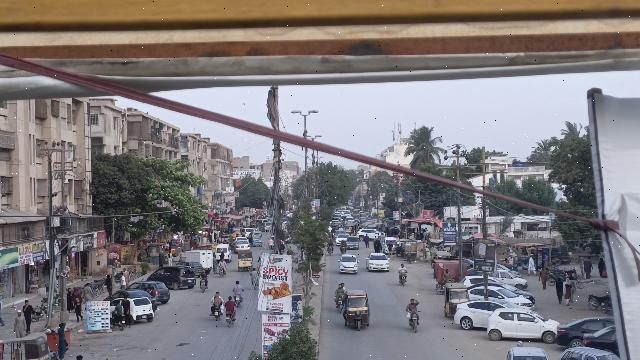Bike: (407, 310, 421, 335), (111, 312, 126, 331), (334, 295, 348, 314), (211, 305, 221, 324), (225, 311, 236, 328), (397, 272, 409, 287), (233, 293, 244, 309)
Car: (484, 307, 560, 344), (452, 297, 508, 330), (555, 316, 608, 347), (148, 264, 197, 291), (128, 277, 170, 304), (182, 248, 216, 276), (364, 251, 391, 273), (335, 253, 360, 276)
Person: (56, 320, 70, 360), (22, 299, 35, 333), (13, 309, 28, 338), (72, 295, 85, 324), (552, 276, 565, 305), (562, 276, 572, 307), (538, 265, 549, 292), (211, 289, 223, 309), (116, 271, 128, 290), (103, 271, 112, 296), (231, 279, 244, 296), (406, 297, 420, 312), (224, 295, 237, 311), (335, 282, 345, 298), (398, 261, 407, 274)
Rickshaw: (342, 289, 371, 329), (442, 281, 470, 321)
